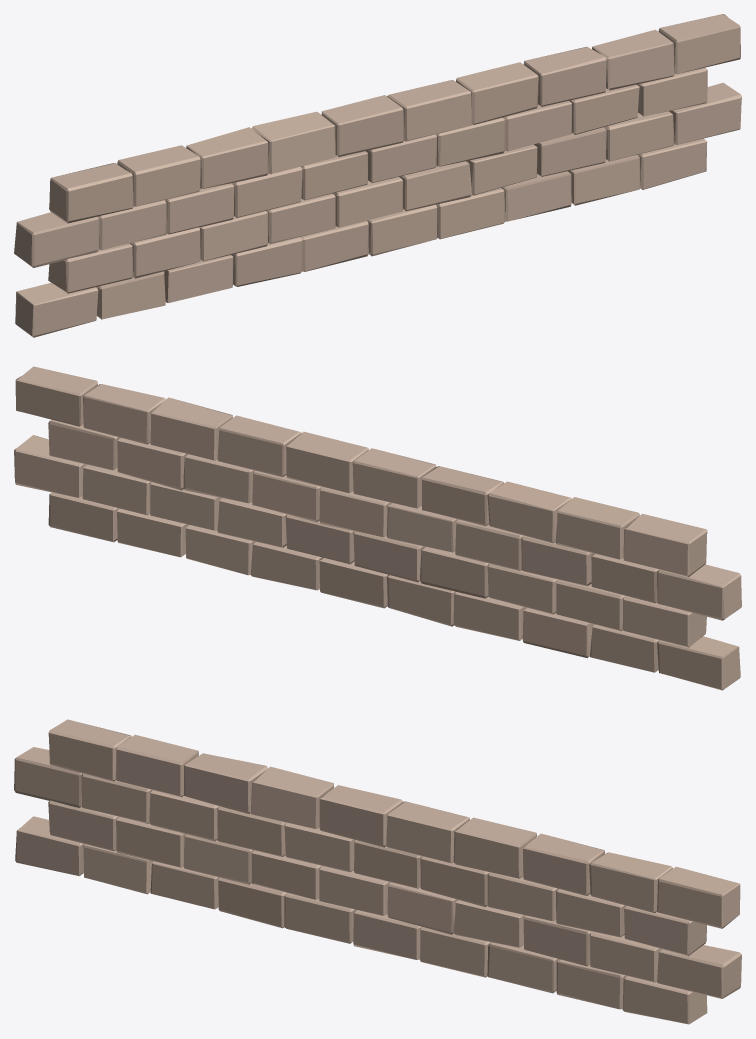
File: BarrenWall4.fbx
3 renders of one model, top to bottom at view 1: azimuth 30°, elevation 25°; view 2: azimuth 150°, elevation 25°; view 3: azimuth 330°, elevation 25°, orthographic.
Parts seen in each view (by area): view 1: BarrenWall4; view 2: BarrenWall4; view 3: BarrenWall4.
Part boxes in pixels (x1,y1,x2,y2): BarrenWall4: (14, 14, 741, 337); BarrenWall4: (14, 366, 741, 690); BarrenWall4: (14, 719, 741, 1024).
Bounding box in the file's own units: 21.02 × 1.05 × 4.04.
